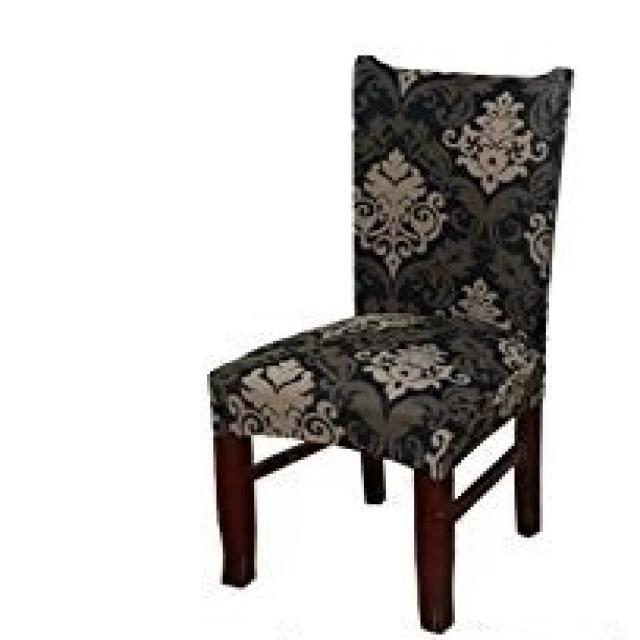chair: (207, 55, 577, 632)
